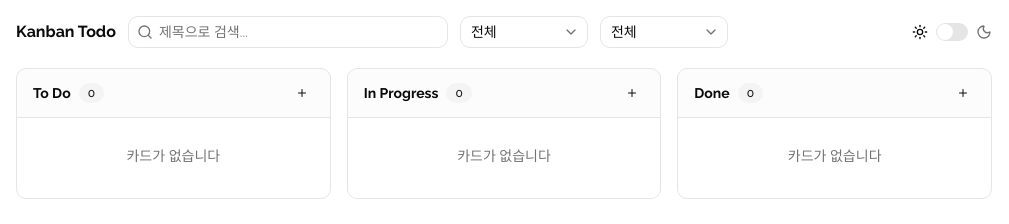
Test: KANBAN-001: 카드 추가 › example 2: 제목 입력 후 확인 → 카드 표시
Click the button named "추가" in the row of "To Do" at (302, 93), box [290,81,314,105]
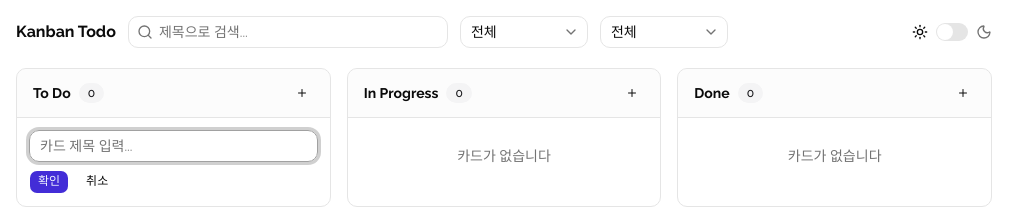
Type "우유 사기" into the field labelled "카드 제목 입력..." at (173, 146), box [29,130,318,162]
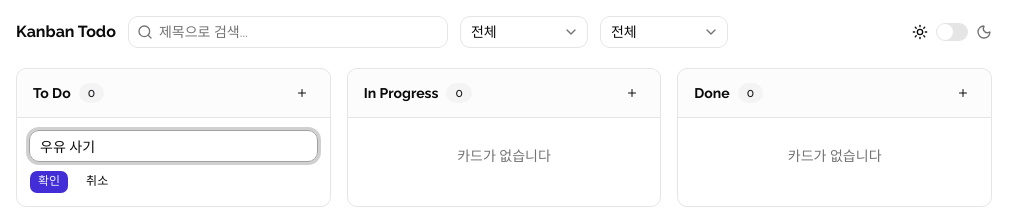
Click the button "확인" at (49, 182), box [29,170,69,194]
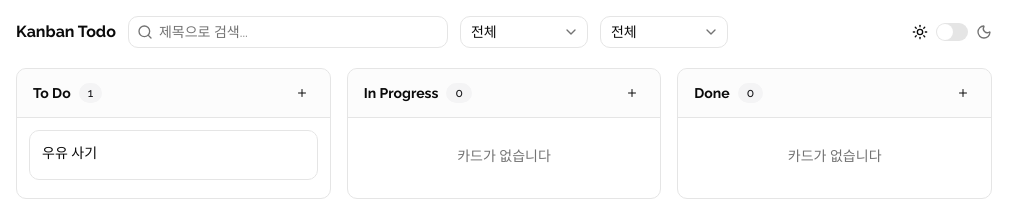
Result: the text "우유 사기" is shown at [42,143,97,163]
